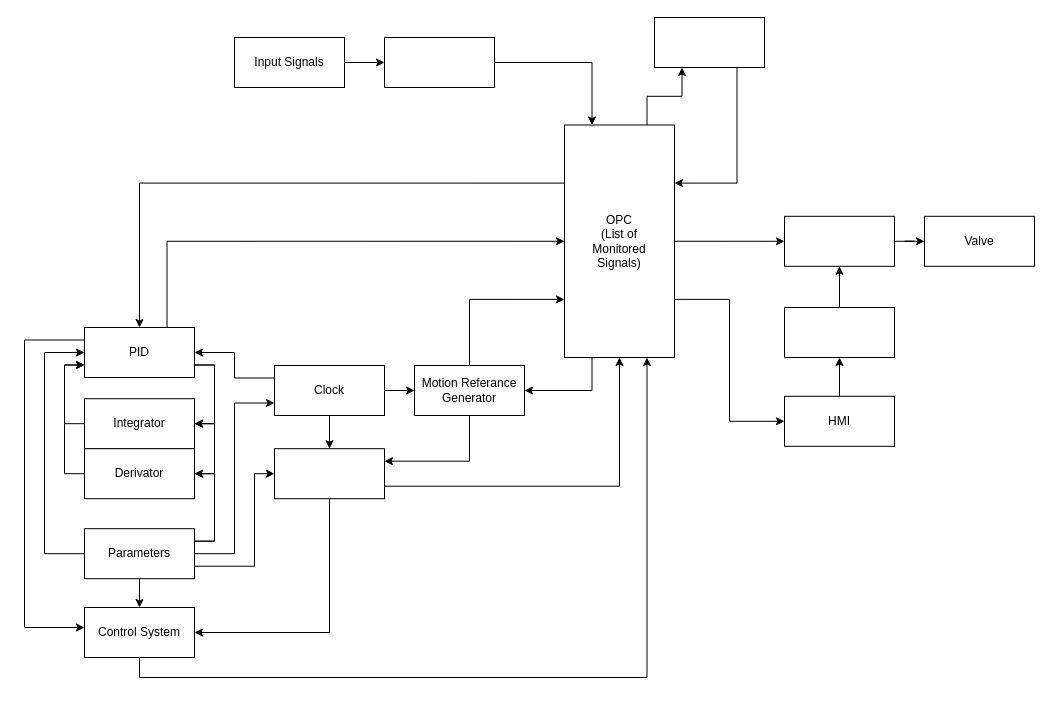
Image size: 1052x703. Some labels were removed from this diagram. Here are the shapes that lost their labels. From the top down, the centre of each, then its label:
[439,62]: Normalize
[709,42]: Filtering
[839,240]: Output
[839,332]: Enable Signals
[329,473]: Feed Forward
